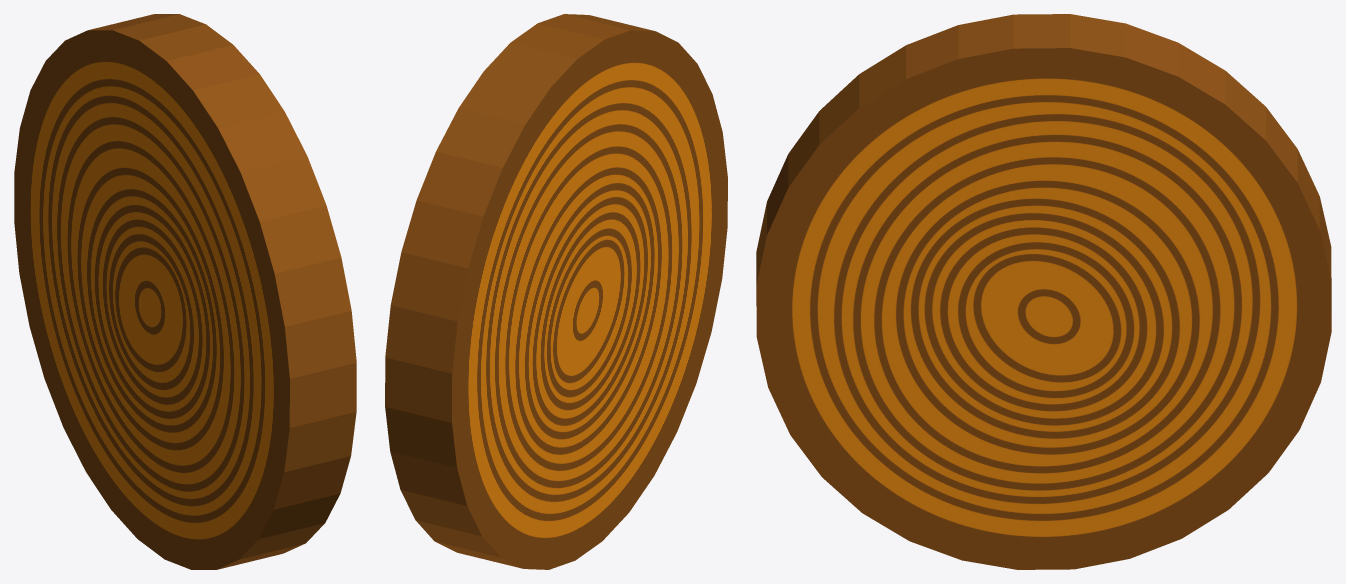
The model's file is ShatteredLog.fbx.
3 renders of one model, left to right at view 1: azimuth 30°, elevation 25°; view 2: azimuth 150°, elevation 25°; view 3: azimuth 270°, elevation 25°, orthographic. The views are drawn at different scales.
Parts seen in each view (by area): view 1: Cylinder, Cylinder.001; view 2: Cylinder.001, Cylinder; view 3: Cylinder, Cylinder.001.
Boxes of the visible parts, left/top/right/bottom form: Cylinder: left=122, top=14, right=356, bottom=569; Cylinder.001: left=14, top=14, right=182, bottom=559; Cylinder.001: left=385, top=70, right=620, bottom=569; Cylinder: left=485, top=14, right=727, bottom=540; Cylinder: left=756, top=14, right=1123, bottom=569; Cylinder.001: left=1001, top=20, right=1331, bottom=569.
Size of the model in its own units: 27.83 by 199 by 199.
